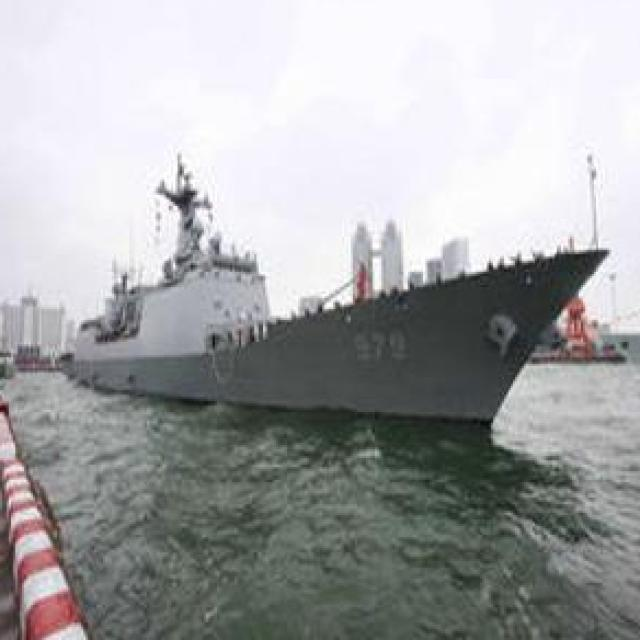navalvessels: (56, 148, 608, 425)
